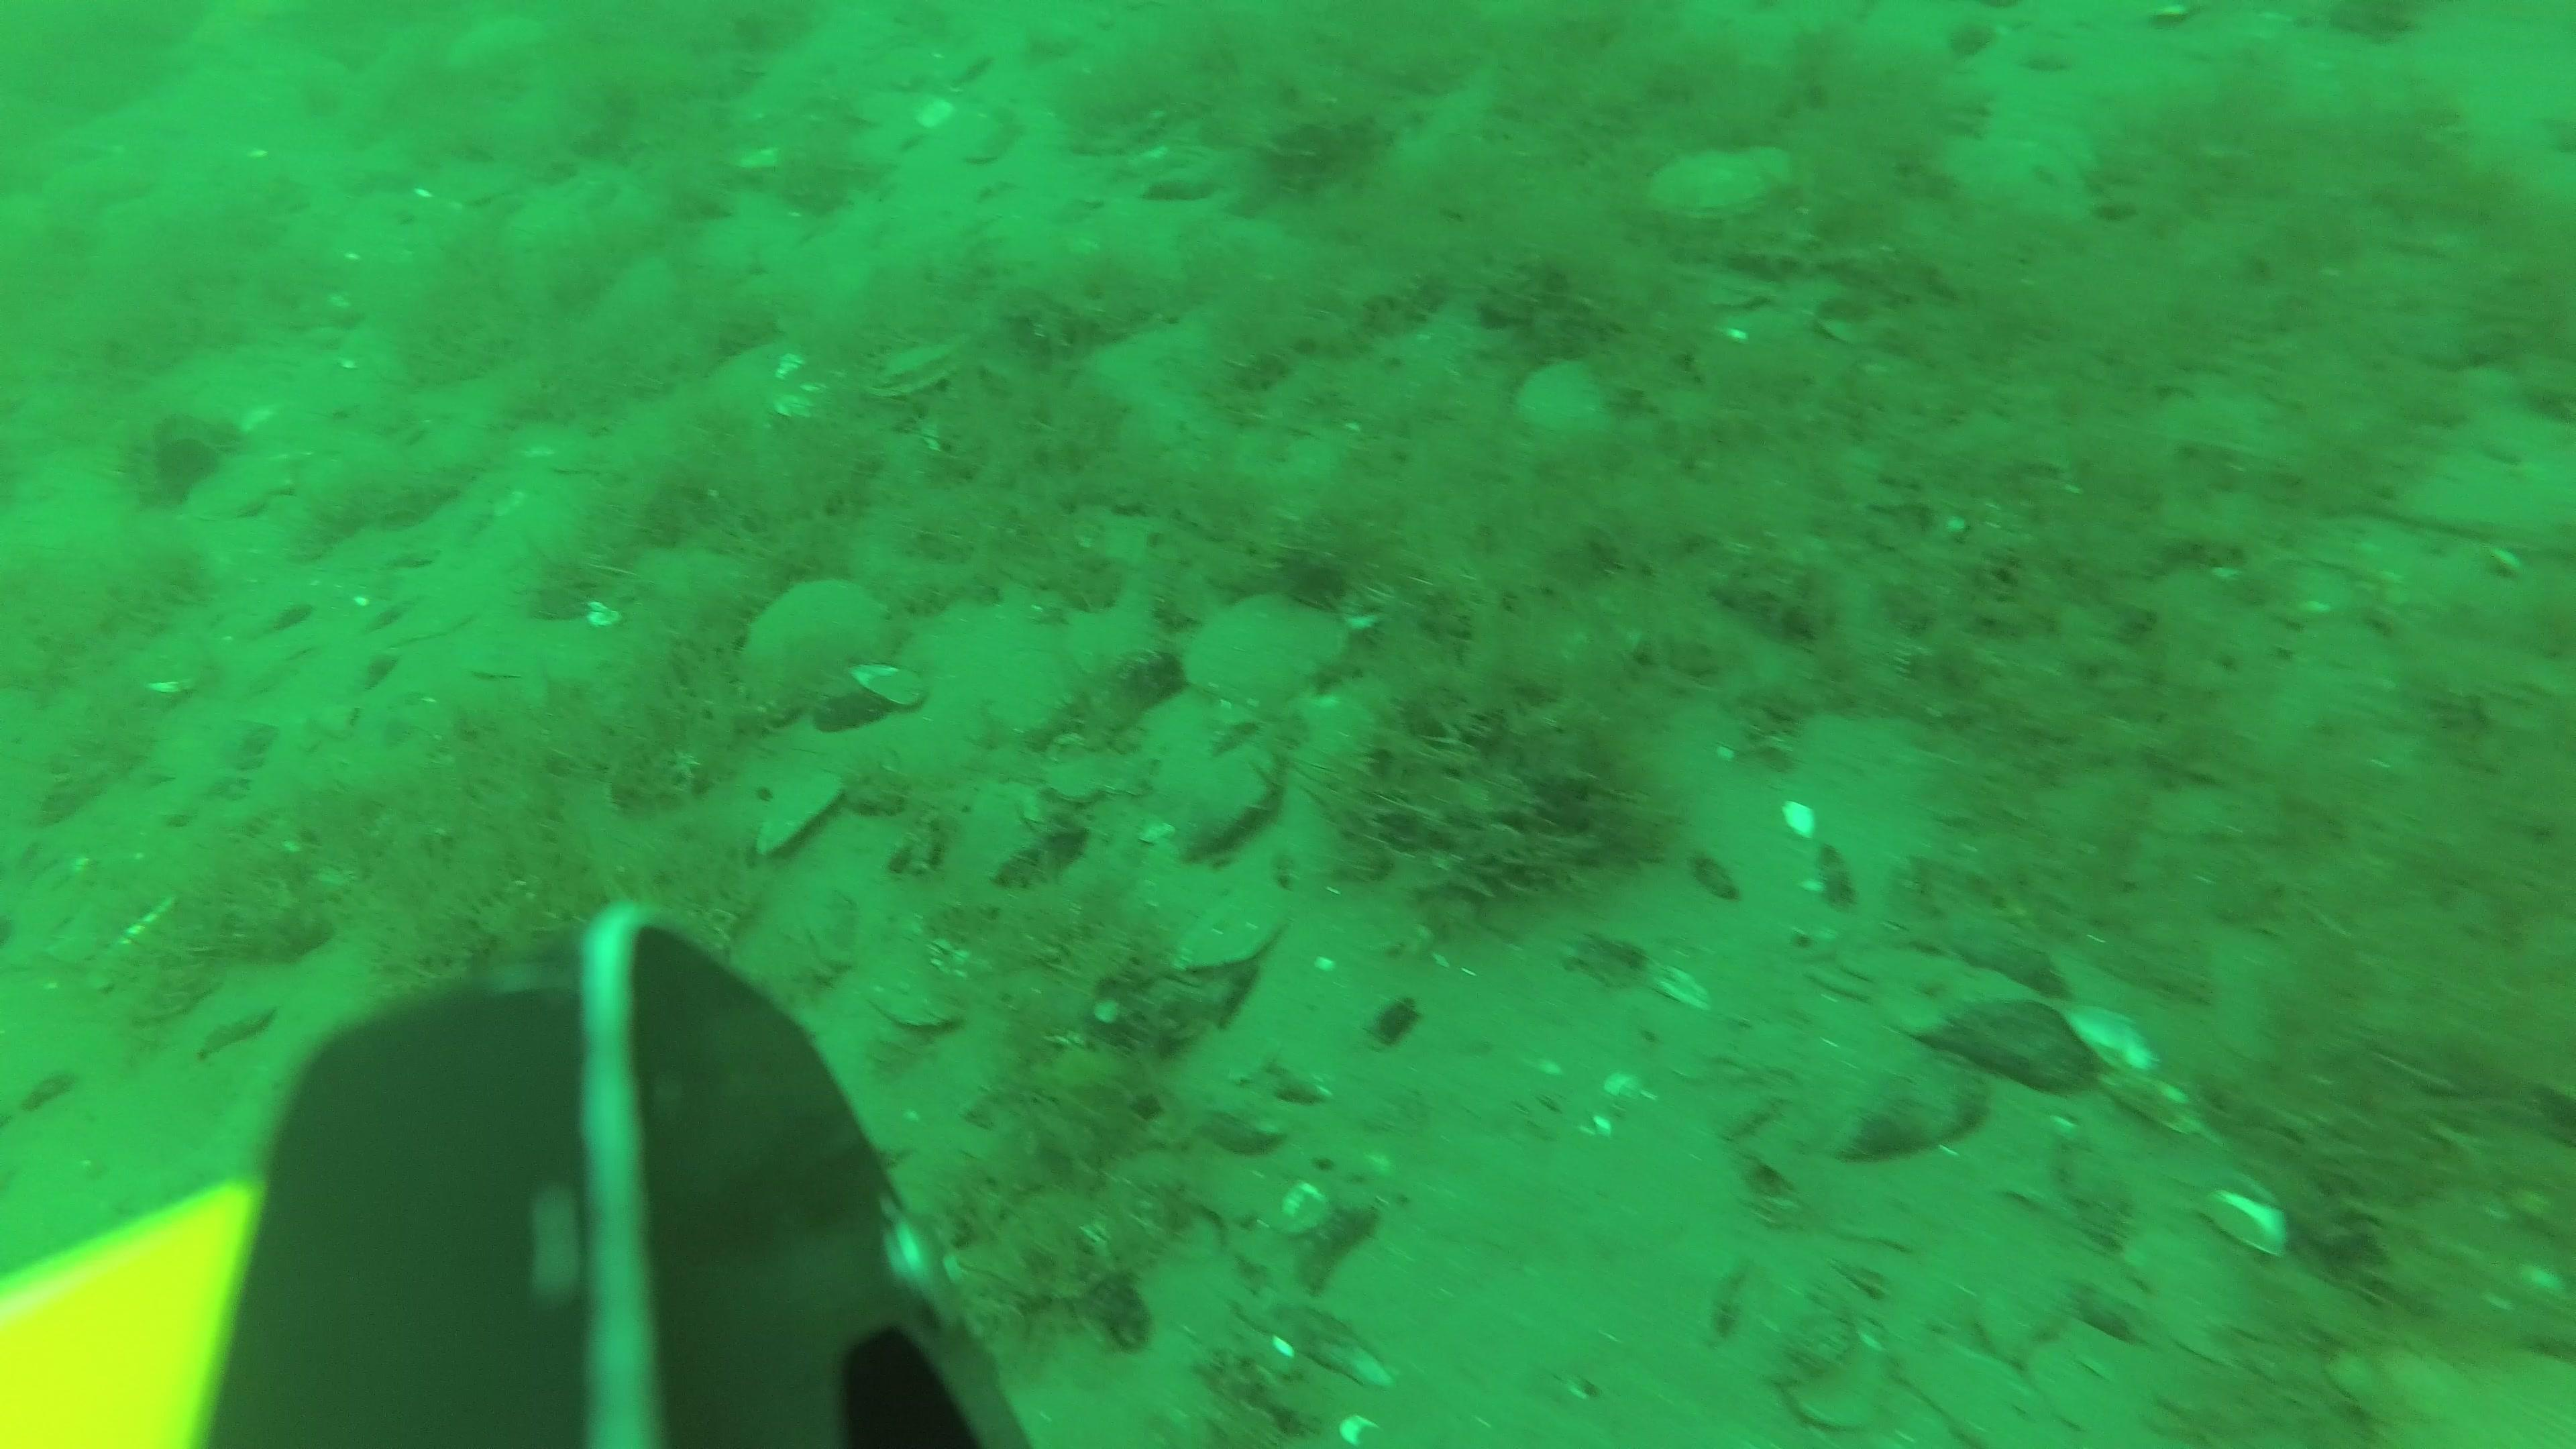scallop: (1180, 582, 1359, 731), (1123, 690, 1279, 849), (734, 577, 908, 713), (837, 679, 984, 787), (1644, 142, 1805, 228), (1511, 350, 1645, 448), (849, 331, 985, 410), (752, 770, 847, 858), (1035, 727, 1143, 805)
